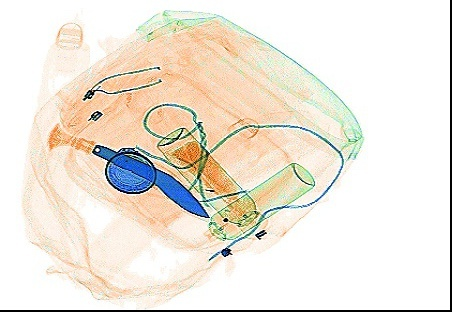knife: (45, 120, 209, 217)
pressure: (153, 125, 267, 239), (202, 160, 314, 240)
